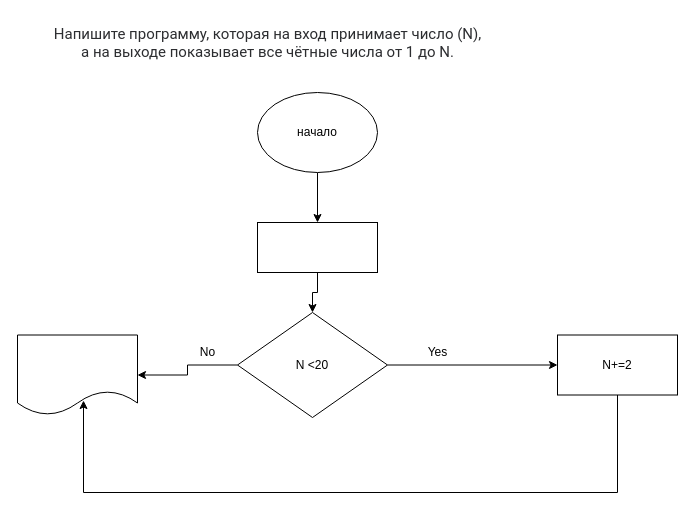
This 695x518 diagram has some shape labels left out. Here are the shapes that lost their labels. From the top down, the centre of each, then its label:
point (317, 247): Введем переменную N=0
point (77, 374): Вывод N
